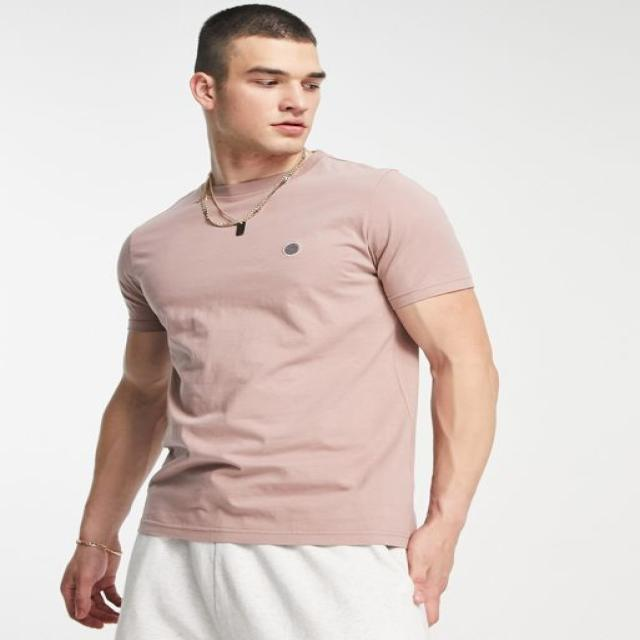tshirt: (114, 152, 474, 547)
